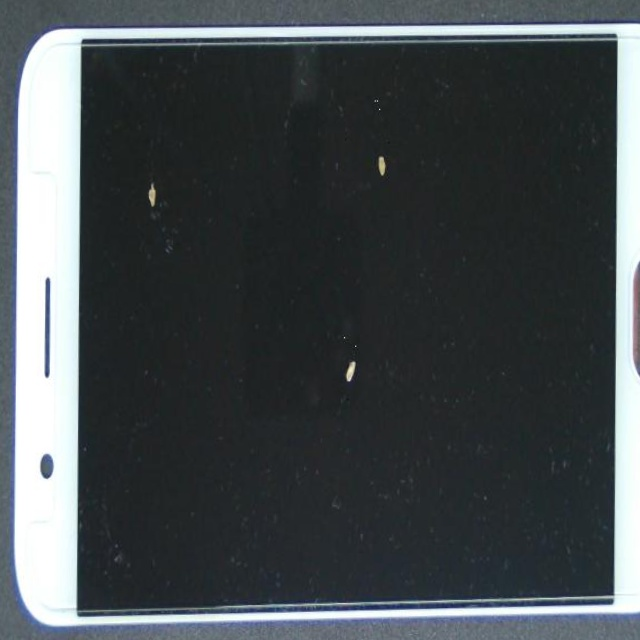stain: (123, 174, 524, 628), (198, 0, 556, 225), (57, 80, 216, 366)
